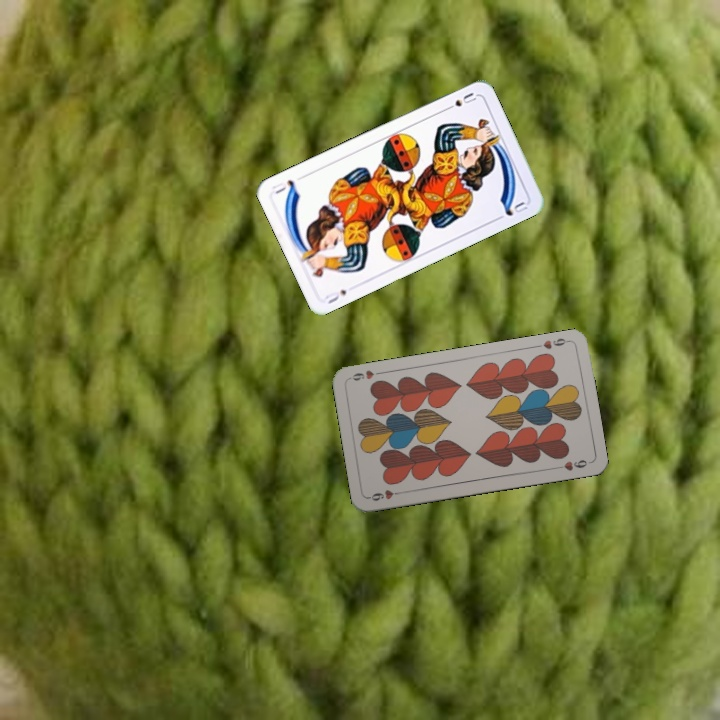H9: (365, 486, 406, 504), (532, 334, 572, 352)
SU: (441, 88, 479, 113), (321, 285, 349, 307)
